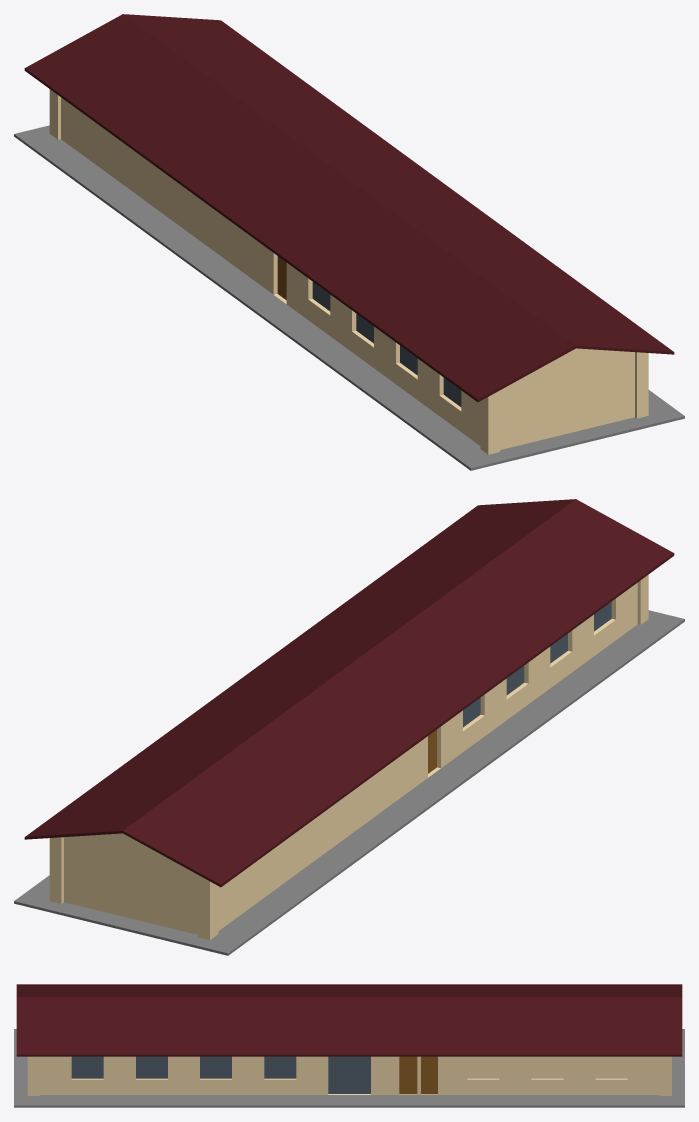
Rendered from cafeteria.gltf.
3 views of the same model, one above another, from view 1: azimuth 30°, elevation 25°; view 2: azimuth 150°, elevation 25°; view 3: azimuth 270°, elevation 25° (orthographic). The views are drawn at different scales.
Visible parts, largest first — view 1: Plane; view 2: Plane; view 3: Plane.
Part boxes in pixels (box(x1,y1,x2,y2)): Plane: box(14, 14, 684, 470); Plane: box(14, 499, 684, 955); Plane: box(14, 984, 684, 1107).
Size of the model in its own units: 10.03 by 4.37 by 37.05.
